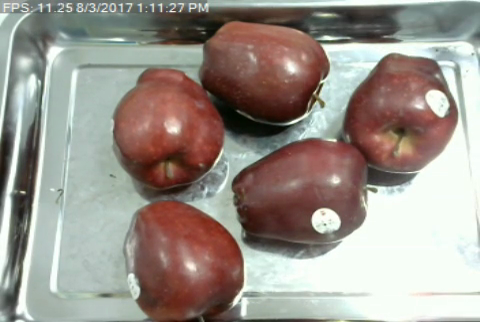Apple: (227, 136, 376, 252), (119, 197, 245, 322), (340, 51, 461, 179), (199, 15, 333, 130), (109, 66, 229, 193)
